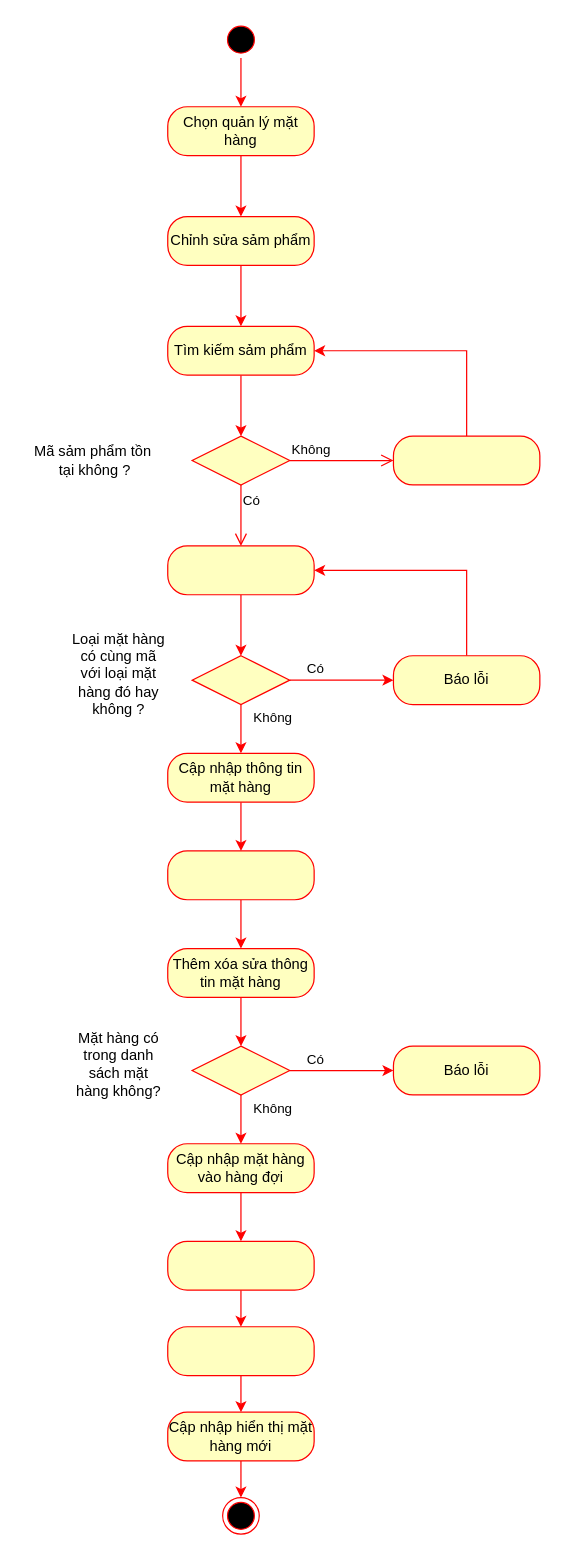
Some shapes in this 561 by 1556 pixel diagram are drawn without their labels. The shapes that lost their labels are listed below. From the top down, each one's centre as x and y in pixels, then its label:
At point 466,460: "Báo lỗi không tìm thấy".
At point 240,570: "Chọn loại mặt hàng".
At point 240,875: "Chọn hoặc thêm mặt hàng mới".
At point 240,1265: "Xác nhận".
At point 240,1351: "Làm mới".
